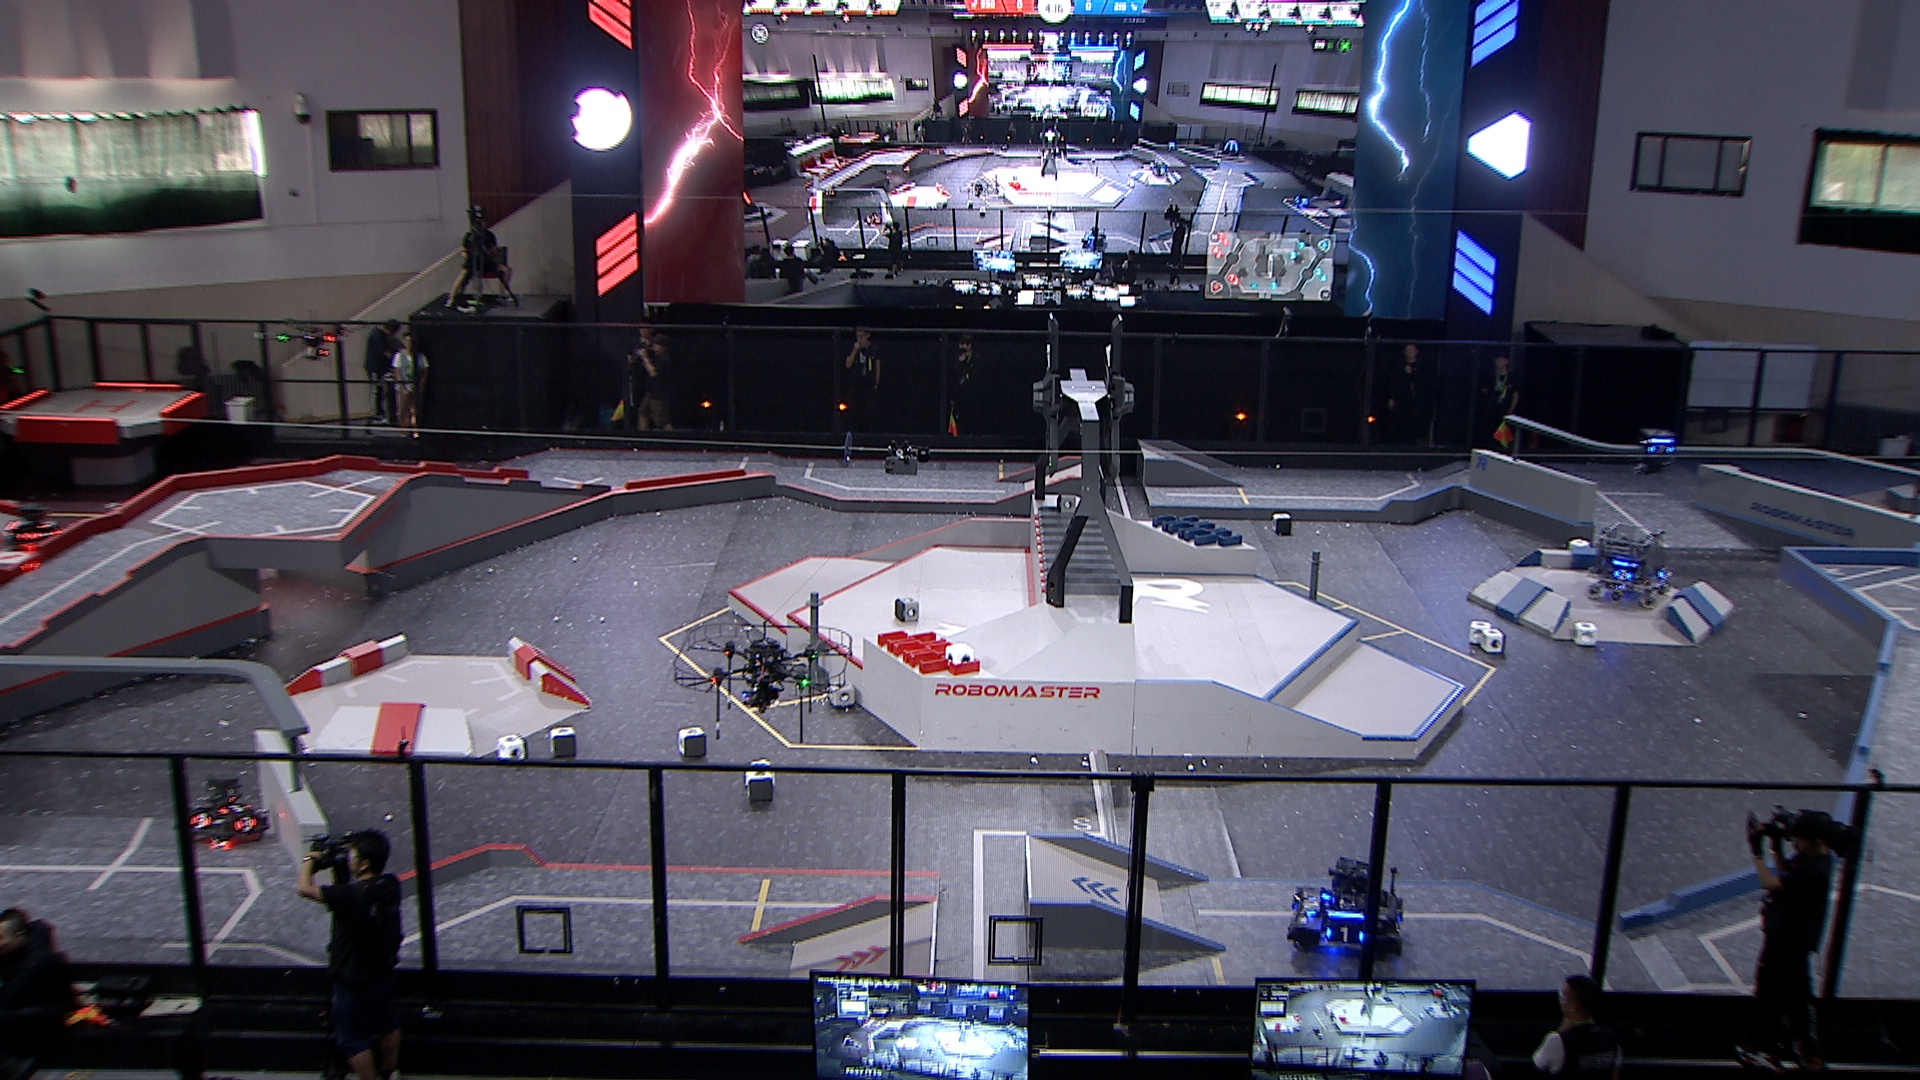armor: (1325, 926, 1366, 945), (190, 808, 216, 831), (13, 527, 47, 543), (218, 802, 256, 815), (233, 818, 258, 835), (1646, 443, 1676, 456), (1391, 913, 1404, 943), (1302, 895, 1319, 918), (1611, 567, 1633, 583), (1658, 566, 1671, 580)
car: (1283, 856, 1406, 960), (1588, 520, 1673, 609), (177, 773, 276, 849), (0, 502, 69, 555)
ignore: (1083, 225, 1106, 248), (742, 190, 760, 216), (1221, 138, 1242, 157), (1292, 194, 1313, 210), (862, 211, 884, 225), (1153, 158, 1168, 175), (825, 182, 840, 200), (1167, 138, 1178, 150)
watcher: (1634, 429, 1677, 475)
